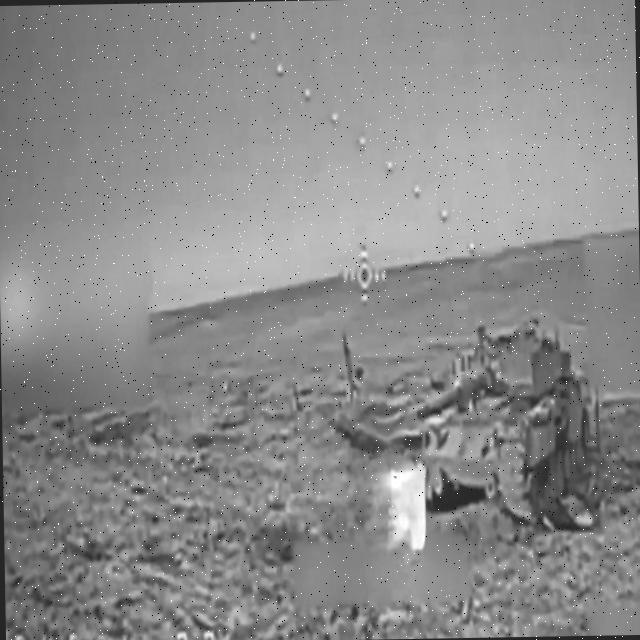MBT: (417, 312, 597, 516)
